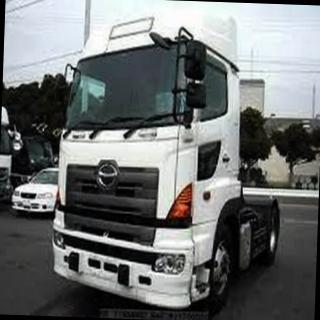truck: (51, 4, 287, 312)
